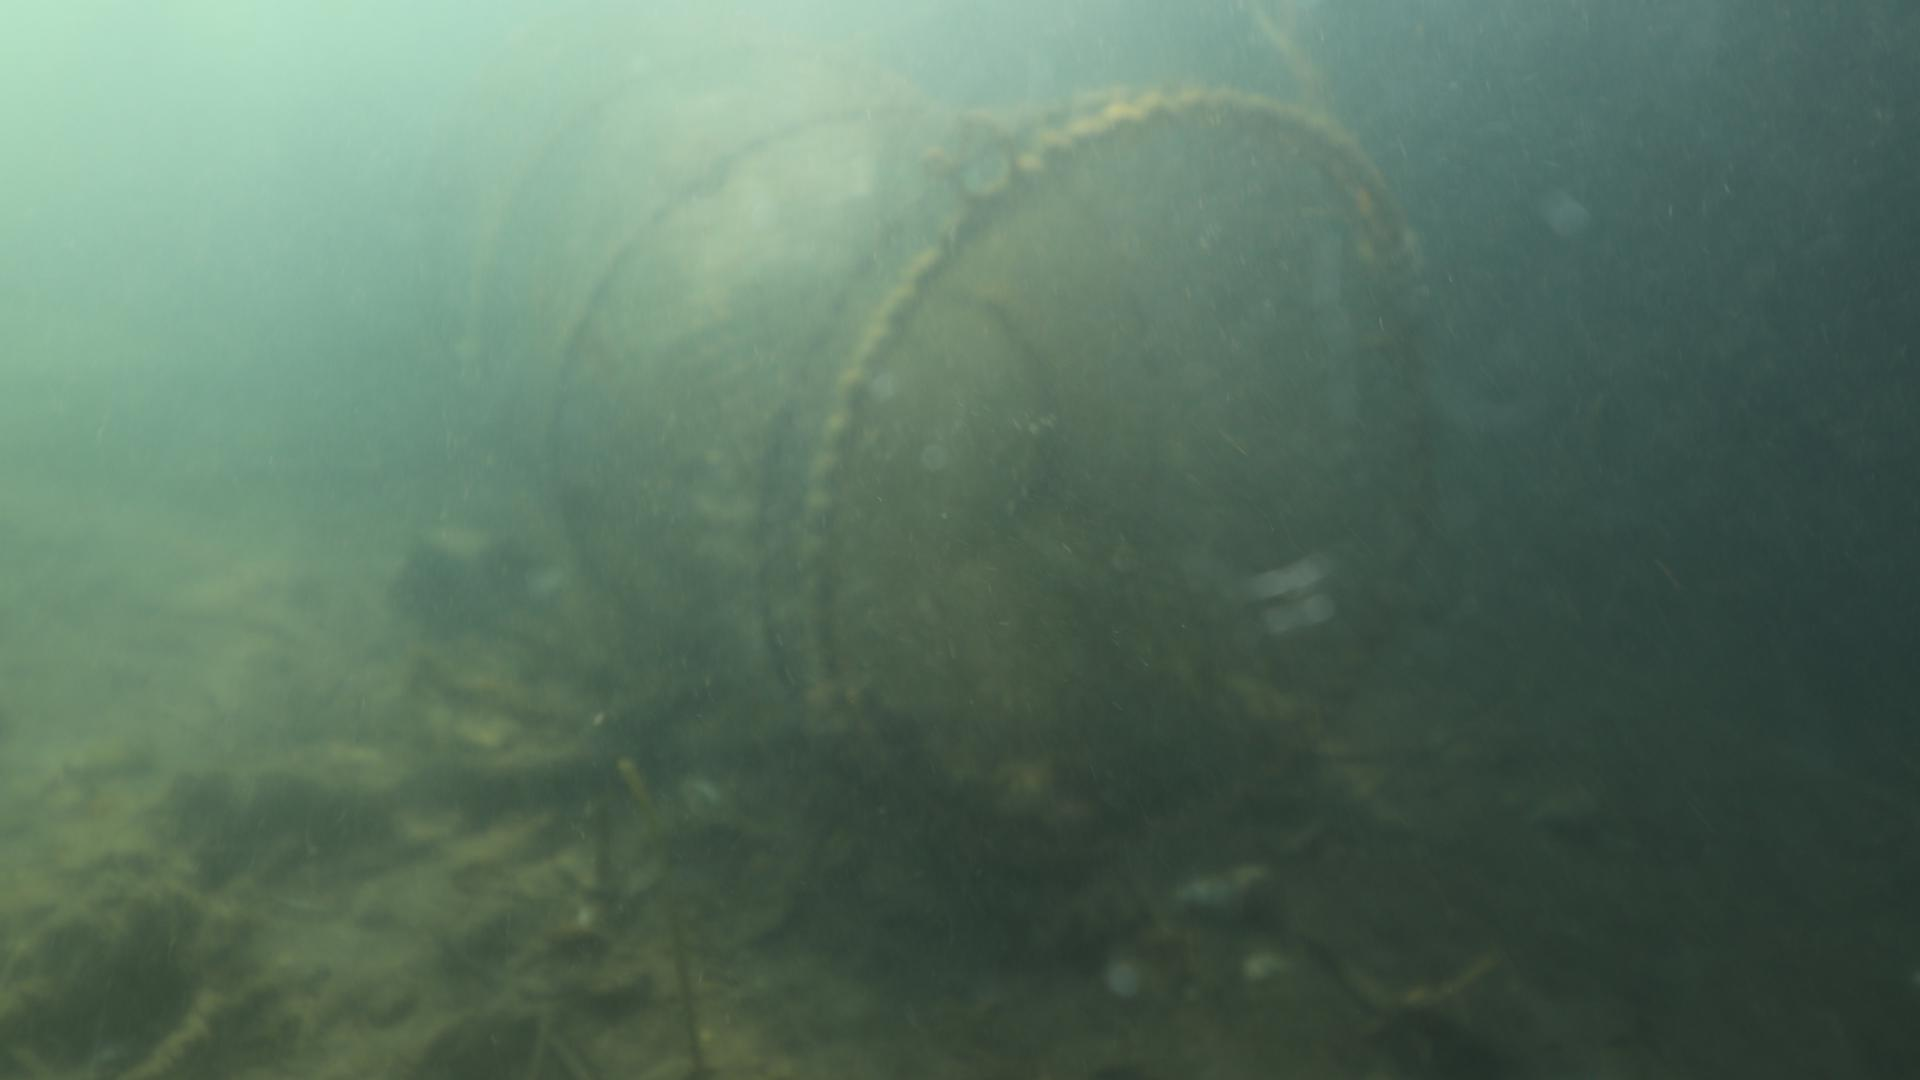spring fish trap: (537, 82, 1443, 866)
